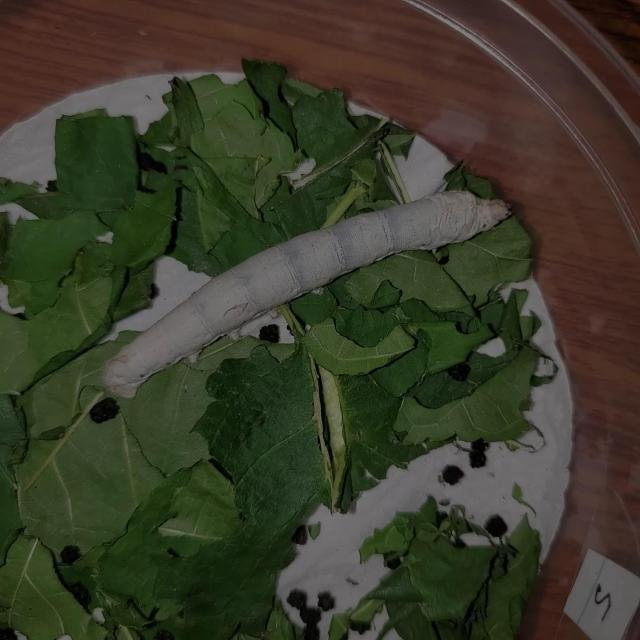Healthy: (57, 138, 573, 419)
